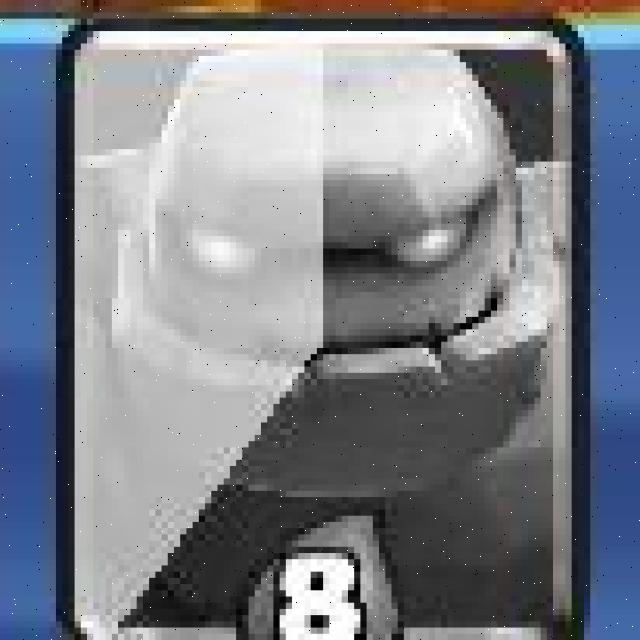Golem: (61, 21, 586, 640)
